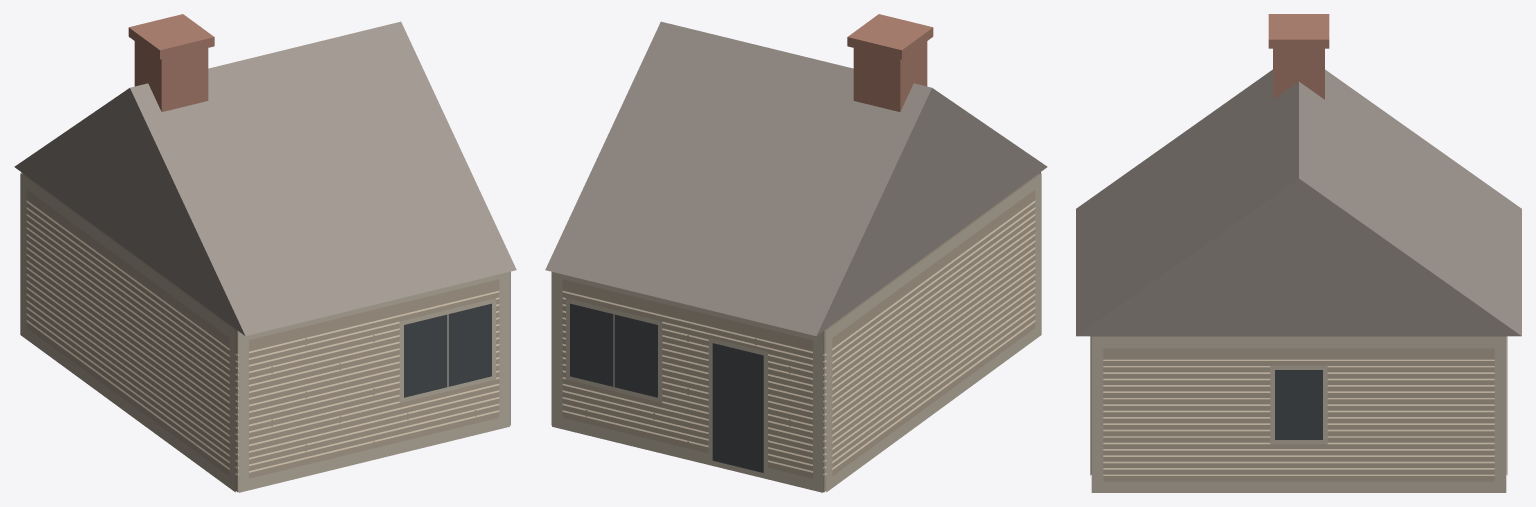
File: inf_sawyer_dwelling_a__inferred_1835.glb
The picture shows the model from 3 angles, left to right: view 1: azimuth 30°, elevation 25°; view 2: azimuth 150°, elevation 25°; view 3: azimuth 270°, elevation 25°; orthographic projection. The views are drawn at different scales.
Parts seen in each view (by area): view 1: inf_sawyer_dwelling_a__inferred_1835; view 2: inf_sawyer_dwelling_a__inferred_1835; view 3: inf_sawyer_dwelling_a__inferred_1835.
Boxes of the visible parts, x1,y1,x2,y2 form: inf_sawyer_dwelling_a__inferred_1835: (14,14,516,492); inf_sawyer_dwelling_a__inferred_1835: (545,14,1047,492); inf_sawyer_dwelling_a__inferred_1835: (1076,14,1521,492).
Bounding box in the file's own units: 4.96 × 6.37 × 7.21.
